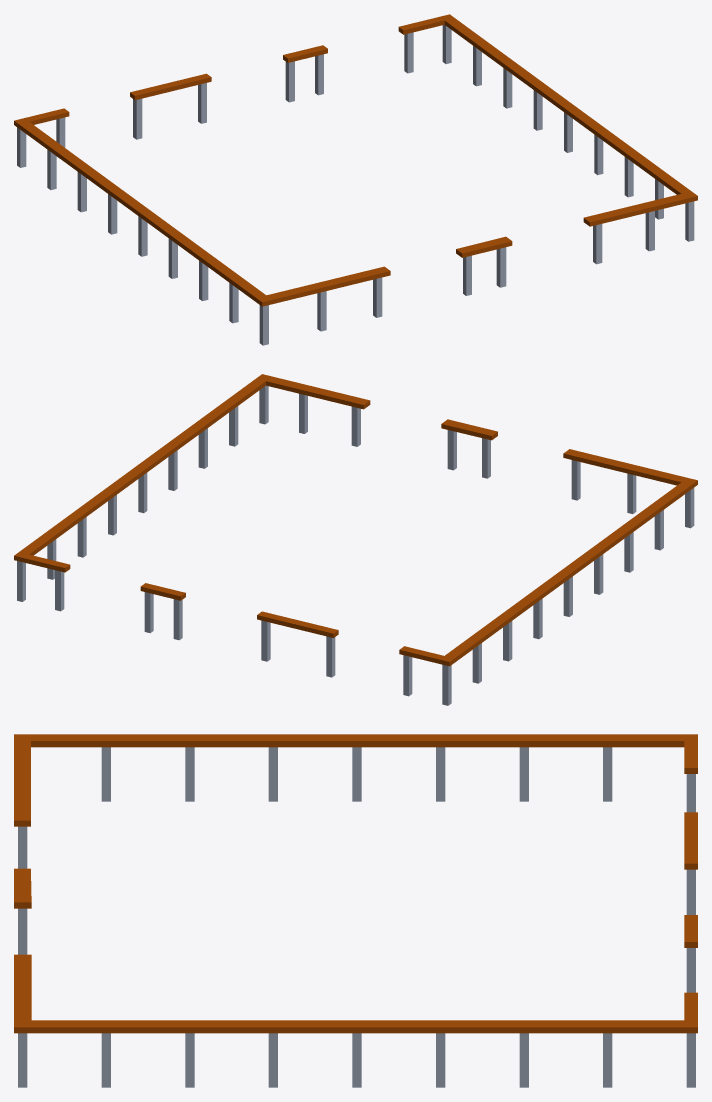
The model's file is Railings 2nd floor.fbx.
3 views of the same model, one above another, from view 1: azimuth 30°, elevation 25°; view 2: azimuth 150°, elevation 25°; view 3: azimuth 270°, elevation 25° (orthographic). The views are drawn at different scales.
Visible parts, largest first — view 1: Railings.031; view 2: Railings.031; view 3: Railings.031.
Boxes of the visible parts, left/top/right/bottom form: Railings.031: left=14, top=14, right=697, bottom=345; Railings.031: left=14, top=374, right=697, bottom=705; Railings.031: left=14, top=734, right=697, bottom=1087.
Size of the model in its own units: 2027 by 200 by 2000.
